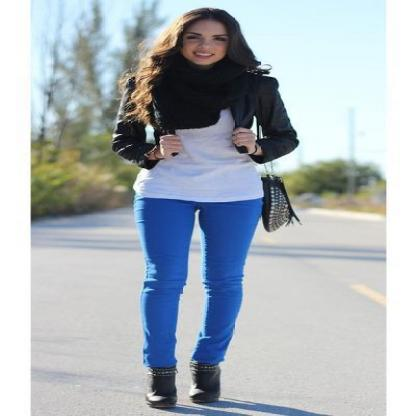bag: (261, 175, 287, 224)
jacket: (112, 66, 298, 168)
pants: (138, 198, 262, 367)
shirt: (142, 110, 263, 202)
shoe: (151, 363, 221, 404)
